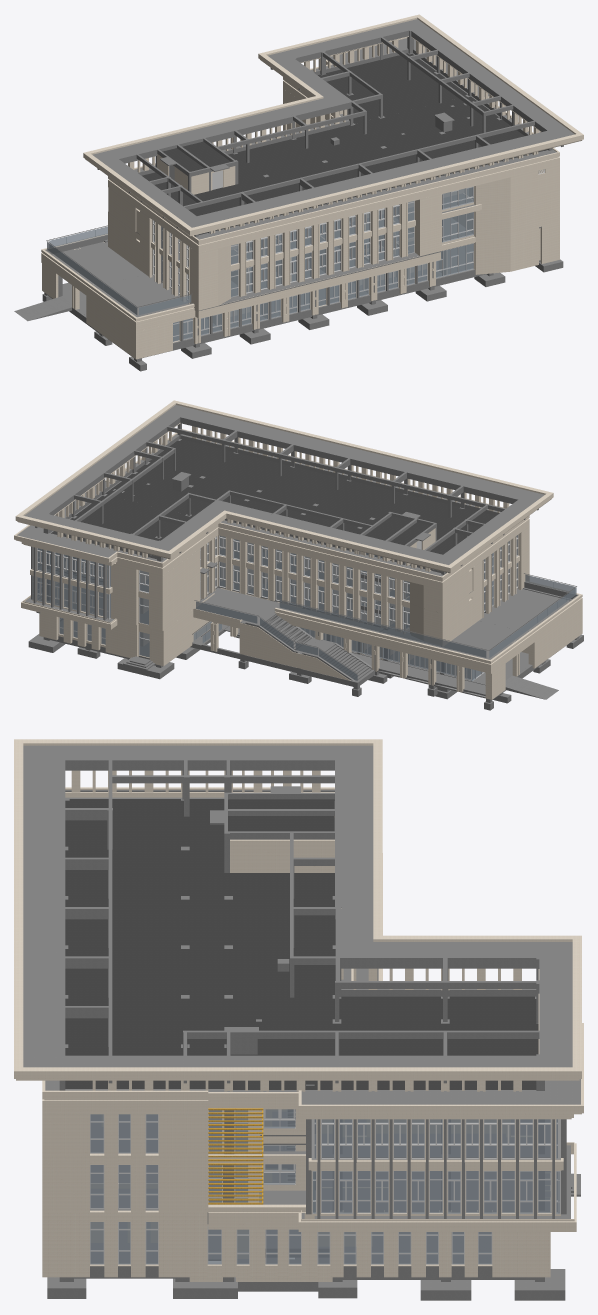
The model's file is xzl.gltf.
3 renders of one model, top to bottom at view 1: azimuth 30°, elevation 25°; view 2: azimuth 150°, elevation 25°; view 3: azimuth 270°, elevation 25°, orthographic. The views are drawn at different scales.
Parts seen in each view (by area): view 1: xzldc01, xzl2c01, xzl1c01, xzl3c01; view 2: xzldc01, xzl2c01, xzl1c01, xzl3c01; view 3: xzldc01, xzl2c01, xzl1c01, xzl3c01.
Boxes of the visible parts, x1,y1,x2,y2 form: xzldc01: (83,14,583,253); xzl2c01: (41,123,559,331); xzl1c01: (14,222,563,371); xzl3c01: (108,53,559,277); xzldc01: (14,400,553,589); xzl2c01: (21,550,582,696); xzl1c01: (28,566,583,710); xzl3c01: (31,439,529,613); xzldc01: (14,739,583,1119); xzl2c01: (42,853,576,1231); xzl1c01: (42,1111,580,1300); xzl3c01: (42,797,566,1162).
Size of the model in its own units: 66.11 by 19.05 by 39.46.
8 materials, 4 textured.
